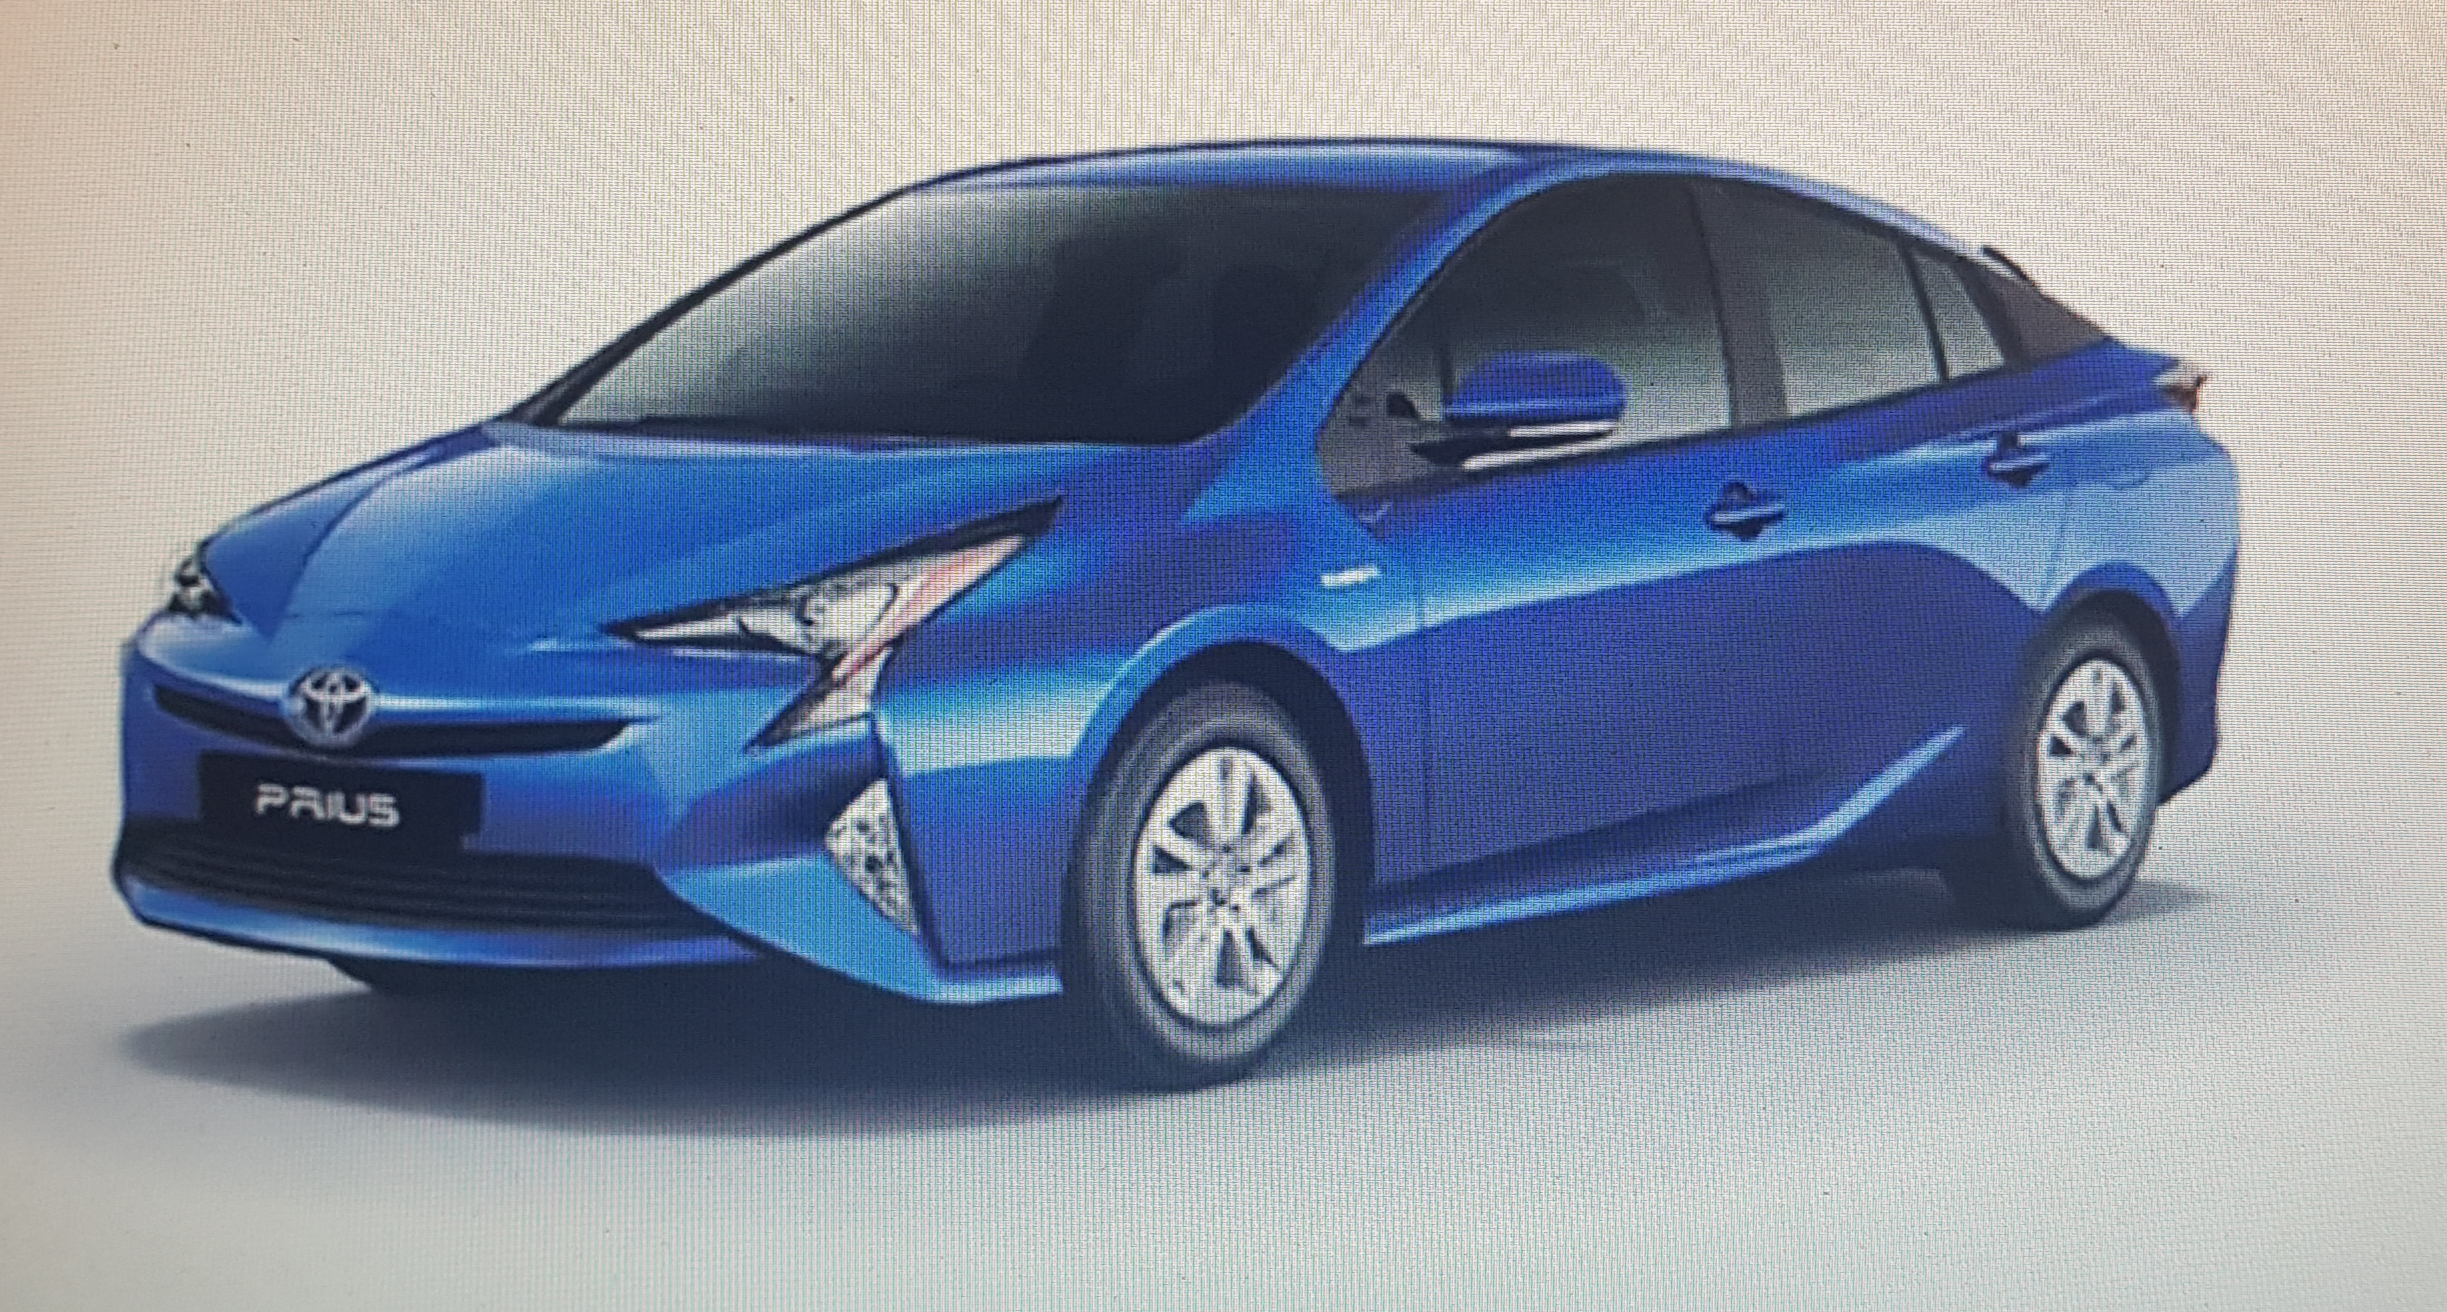Blue: (99, 134, 2246, 1095)
